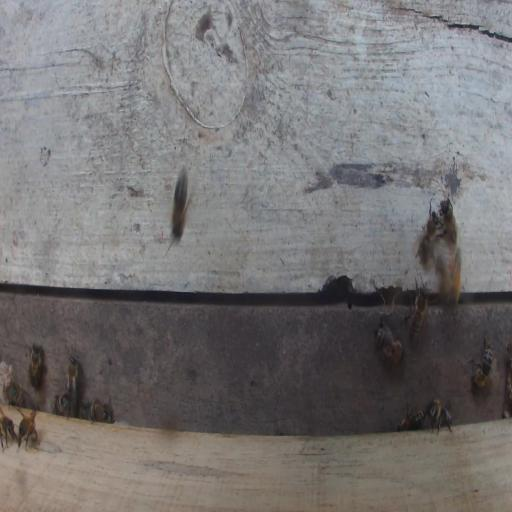bee: (408, 275, 433, 344), (416, 202, 443, 265), (468, 334, 493, 390), (374, 320, 404, 366), (171, 165, 189, 240), (448, 244, 465, 307), (427, 397, 453, 436), (439, 195, 457, 246), (17, 411, 38, 452), (397, 403, 425, 431), (64, 355, 79, 406), (1, 408, 18, 450), (29, 342, 44, 387), (89, 399, 113, 423), (6, 381, 26, 406), (53, 393, 71, 417)
